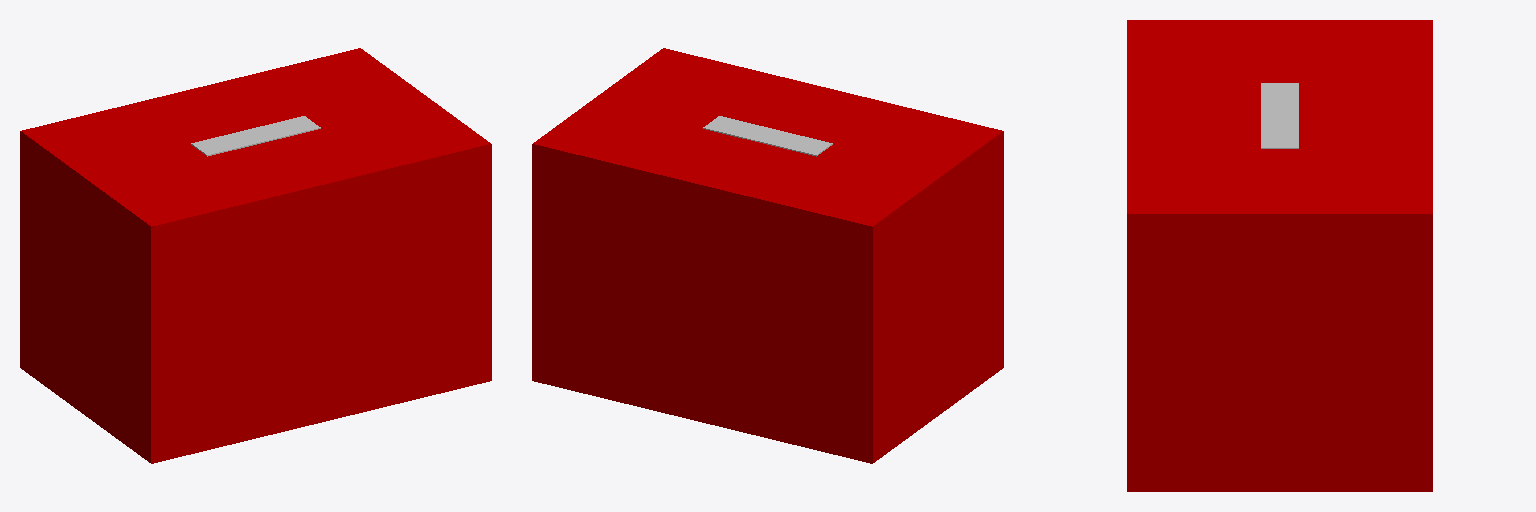
The robot description file, URDF, robot "brick_green":
<?xml version="1.0"?>

<robot name="brick_green">

  <material name = "Red">
    <color rgba="0.8 0.0 0 1.0"/>
  </material>

  <material name = "Gray">
    <color rgba="0.8 0.8 0.8 1.0"/>
  </material>

  <link name="base_link">
    <inertial>
      <origin xyz="0 0 0.5" rpy="0 0 0" />
      <mass value="1"/>
      <inertia ixx="100" ixy="0" ixz="0" iyy ="100" iyz = "0" izz = "100" />
    </inertial>
    <visual>
      <geometry>
        <box size="0.3 0.2 0.2"/>
      </geometry>
      <material name="Red"/>
    </visual>
    <collision>
      <origin xyz="0 0 0" rpy="0 0 0" />
      <geometry>      
        <box size = "0.3 0.2 0.2"/>  
      </geometry>
    </collision>
  </link>

  <link name="magnet_patch">
    <visual>
      <geometry>
        <box size="0.1 0.025 0.001"/>
      </geometry>
      <material name="Gray"/>
    </visual>
    <collision>
      <origin xyz="0 0 0" rpy="0 0 0" />
      <geometry>
        <box size="0.1 0.025 0.0005"/>
      </geometry>
    </collision>
  </link>

  <joint name="patch_joint" type="fixed">
    <origin xyz="0.0 0.0 0.101" rpy="0 0 0"/>
    <parent link="base_link"/>
    <child link="magnet_patch"/>
  </joint>

  <gazebo reference="base_link">
    <material>Gazebo/Red</material>
  </gazebo>
  <gazebo reference="magnet_patch">
    <material>Gazebo/Gray</material>
  </gazebo>

</robot>
    

--- Render facts (derived) ---
Views: 3 orthographic renders of the robot side by side, from view 1: azimuth 30°, elevation 25°; view 2: azimuth 150°, elevation 25°; view 3: azimuth 270°, elevation 25°.
Robot: brick_green — 2 links, 1 joints (1 fixed); root link base_link; default pose: all joints at 0.
Links seen in each view (by area): view 1: base_link, magnet_patch; view 2: base_link, magnet_patch; view 3: base_link, magnet_patch.
Boxes of the visible links, x1,y1,x2,y2 form: base_link: (20, 48, 491, 463); magnet_patch: (191, 116, 320, 156); base_link: (532, 48, 1003, 463); magnet_patch: (703, 116, 832, 156); base_link: (1127, 20, 1432, 491); magnet_patch: (1261, 83, 1298, 148).
Bounding box of the posed robot: 0.3 × 0.2 × 0.2015 m (x, y, z).
Geometry: primitives only (box / cylinder / sphere), no mesh files.